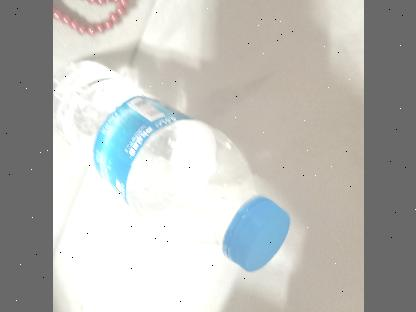Plastic Bottle: (54, 57, 288, 276)
